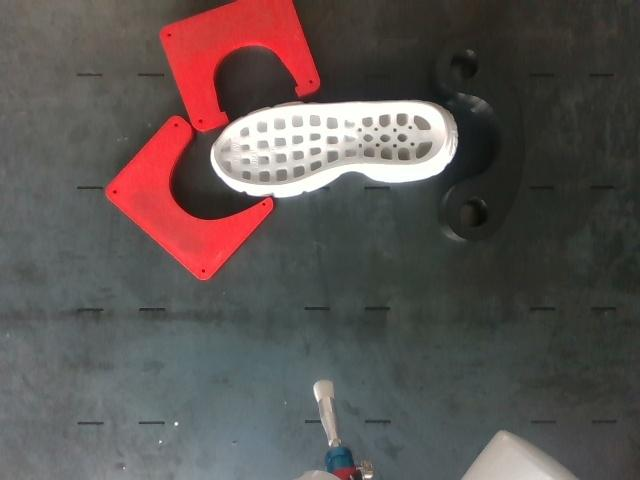shoes: (214, 103, 445, 185)
